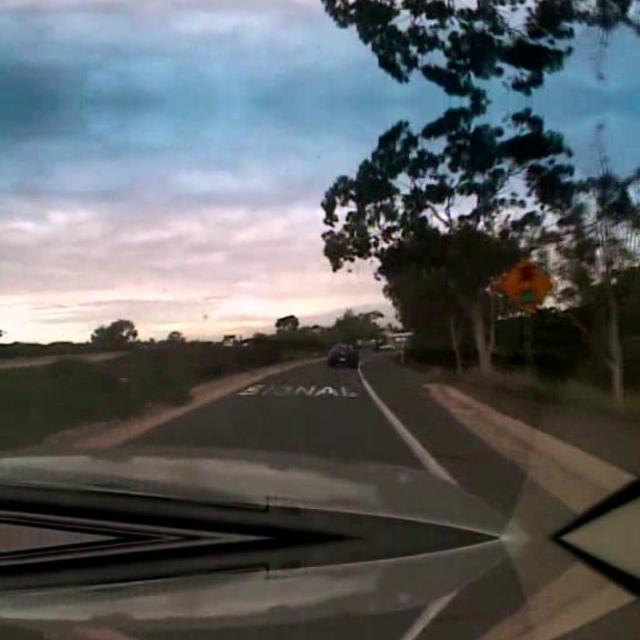signalAhead: (496, 254, 554, 312)
